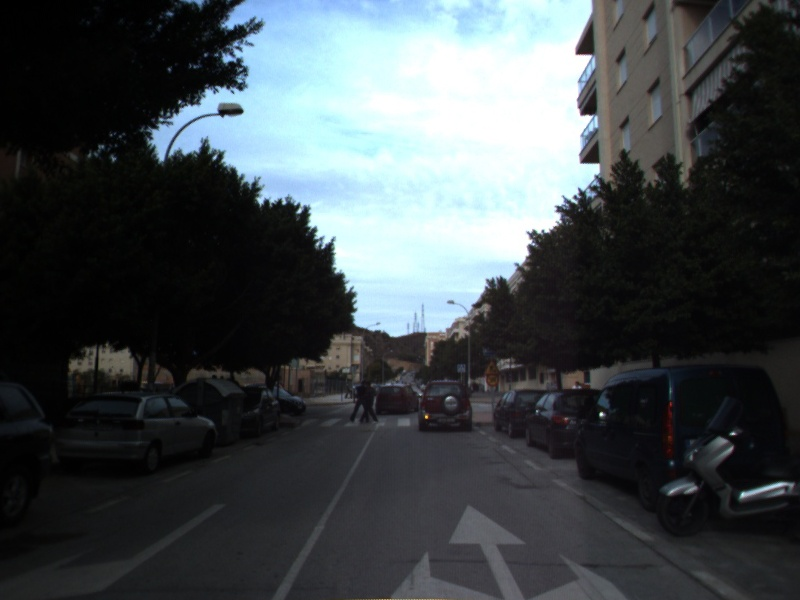STRAIGHT_LEFT_RIGHT: (387, 502, 631, 600)
